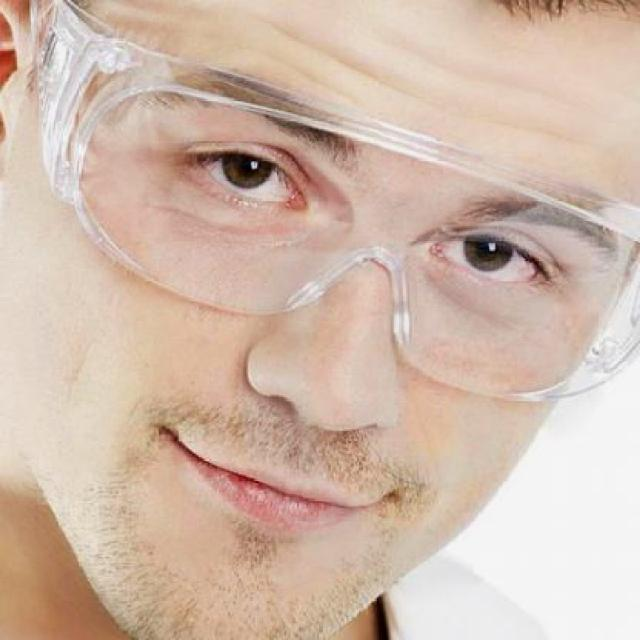face_nomask: (129, 132, 557, 548)
glasses: (29, 0, 638, 409)
